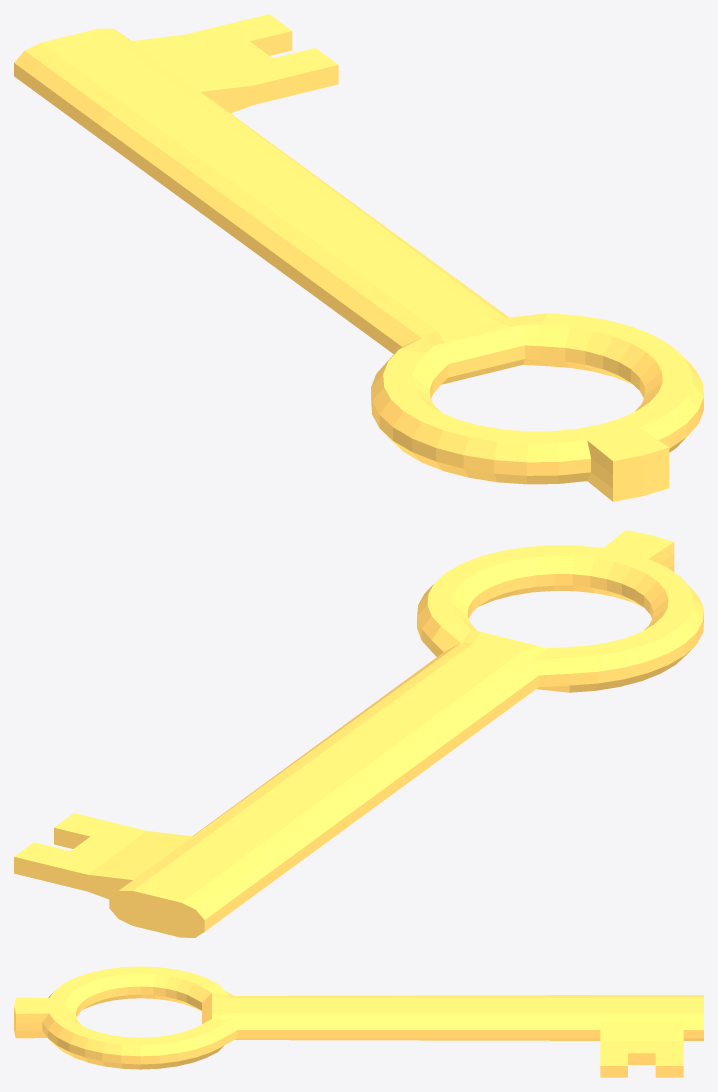
The model's file is Key.fbx.
The picture shows the model from 3 angles, top to bottom: view 1: azimuth 30°, elevation 25°; view 2: azimuth 150°, elevation 25°; view 3: azimuth 270°, elevation 25°; orthographic projection. The views are drawn at different scales.
Visible parts, largest first — view 1: Key; view 2: Key; view 3: Key.
Boxes of the visible parts, x1,y1,x2,y2 form: Key: (14, 14, 703, 501); Key: (14, 530, 703, 937); Key: (14, 966, 703, 1077).
Size of the model in its own units: 21.98 by 2.61 by 66.68.
